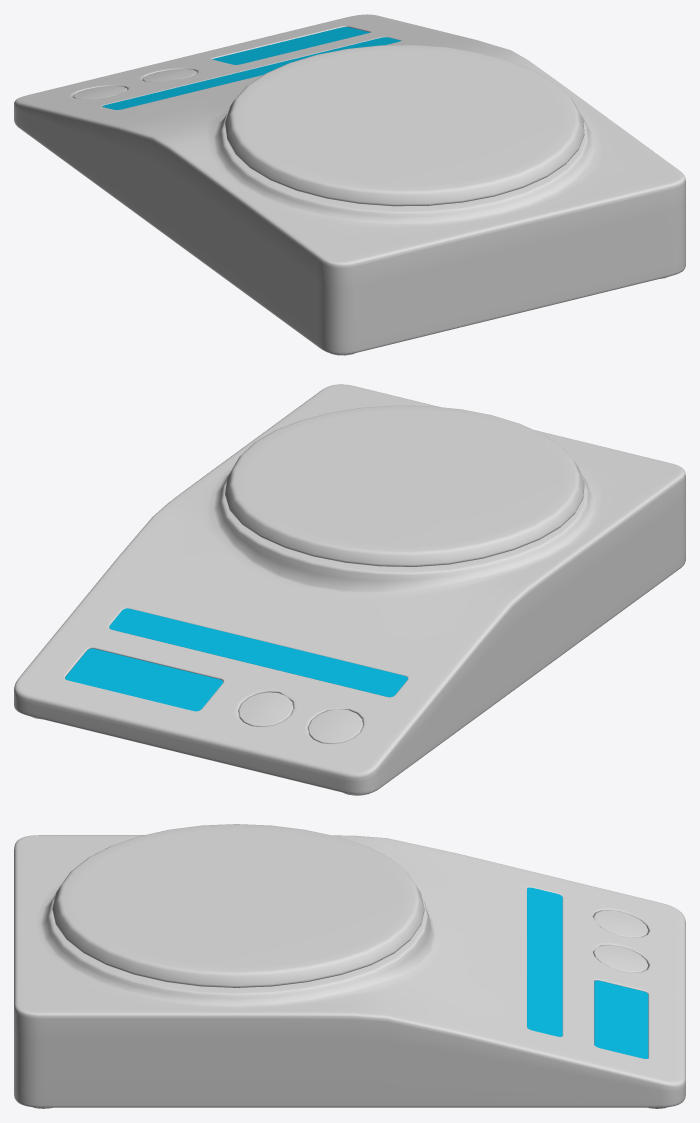
File: Wage_MPI01_fbx.fbx
The picture shows the model from 3 angles, top to bottom: view 1: azimuth 30°, elevation 25°; view 2: azimuth 150°, elevation 25°; view 3: azimuth 270°, elevation 25°; orthographic projection. The views are drawn at different scales.
Visible parts, largest first — view 1: Wage; view 2: Wage; view 3: Wage.
Boxes of the visible parts, x1=… form: Wage: x1=14, y1=14, x2=685, y2=355; Wage: x1=14, y1=384, x2=685, y2=795; Wage: x1=14, y1=824, x2=685, y2=1108.
Bounding box in the file's own units: 12.44 × 4.01 × 19.58.
